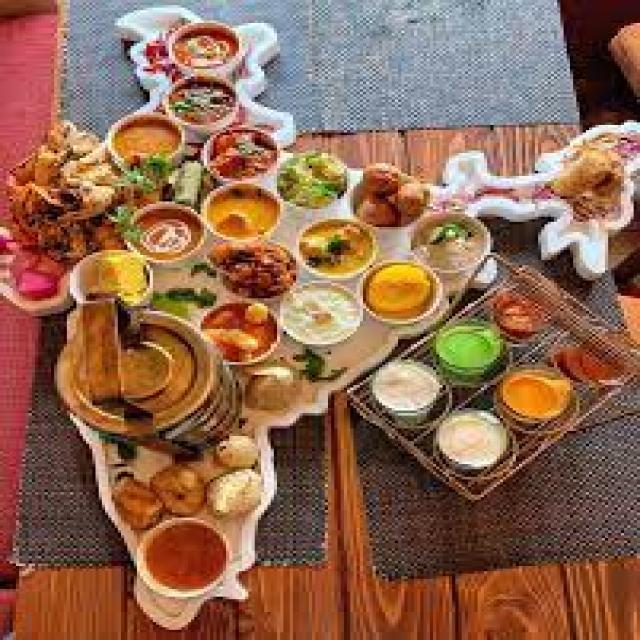curd: (423, 407, 521, 475), (363, 359, 450, 423)
dal: (490, 369, 580, 425), (361, 264, 440, 320)
pickle: (339, 161, 430, 233)
raita: (424, 411, 523, 473), (364, 357, 453, 425)
rice: (278, 288, 366, 347)
roti: (44, 130, 127, 245)
sweet: (133, 522, 244, 589), (343, 164, 428, 234), (195, 300, 285, 362), (158, 23, 249, 77), (104, 114, 186, 168)
veg-fry: (204, 236, 305, 304), (197, 122, 287, 189)
